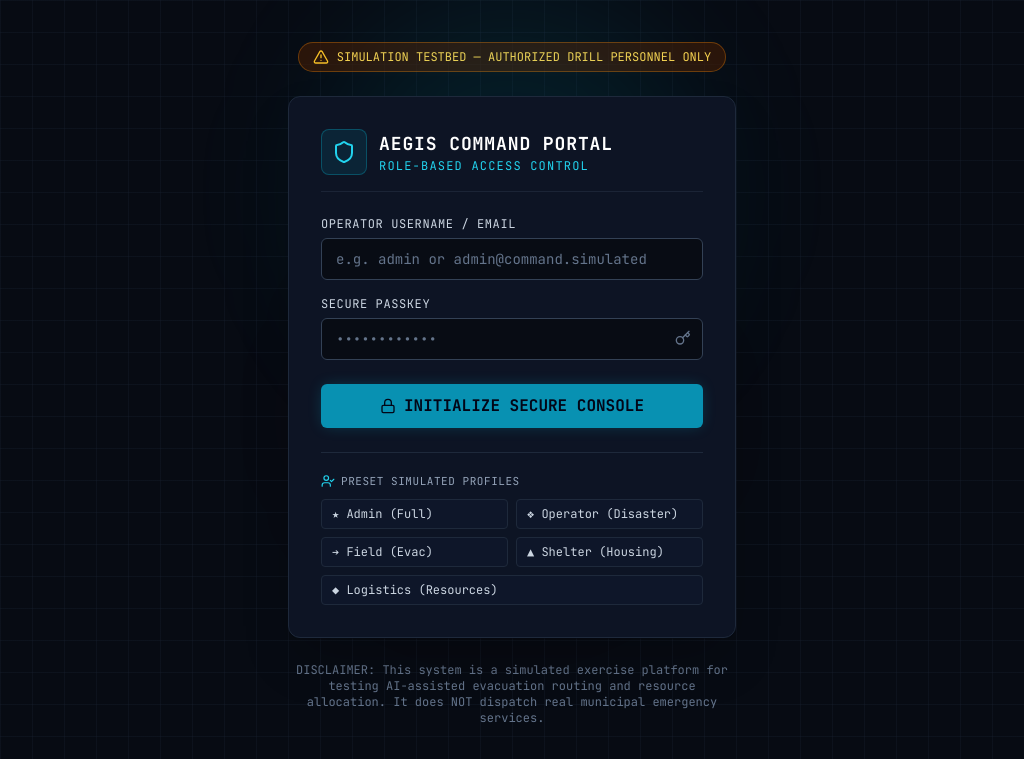
Test: Phase 3 — Authentication & RBAC › Login Page › shows error message on invalid credentials (401)
Type "admin" into the field with id "login-username". click: (512, 259)
box: [321, 238, 703, 280]
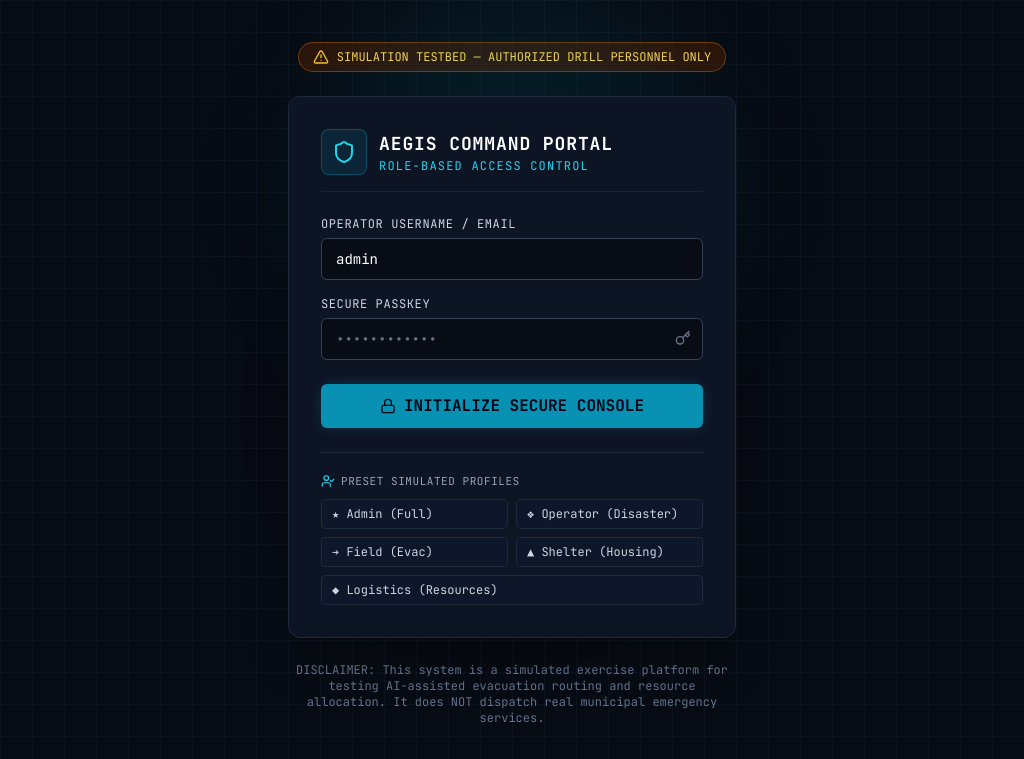
Type "WrongPassword!" into the password field with id "login-password". click: (512, 339)
box: [321, 318, 703, 360]
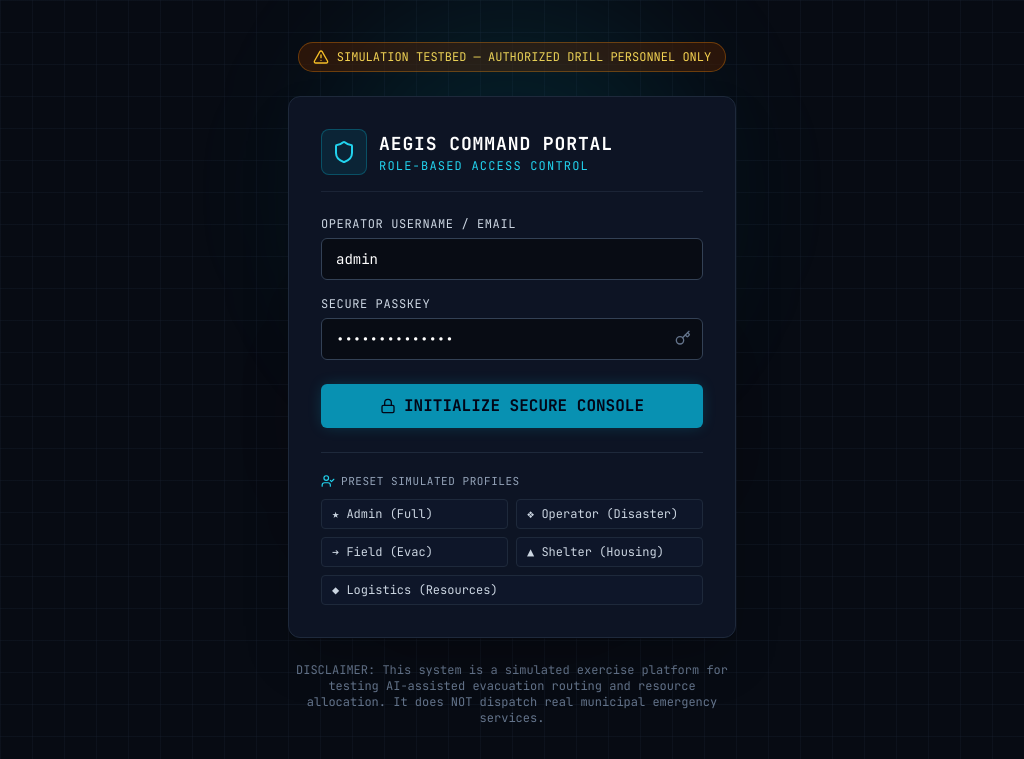
Click the button with id "login-submit-btn". click: (512, 406)
box: [321, 384, 703, 428]
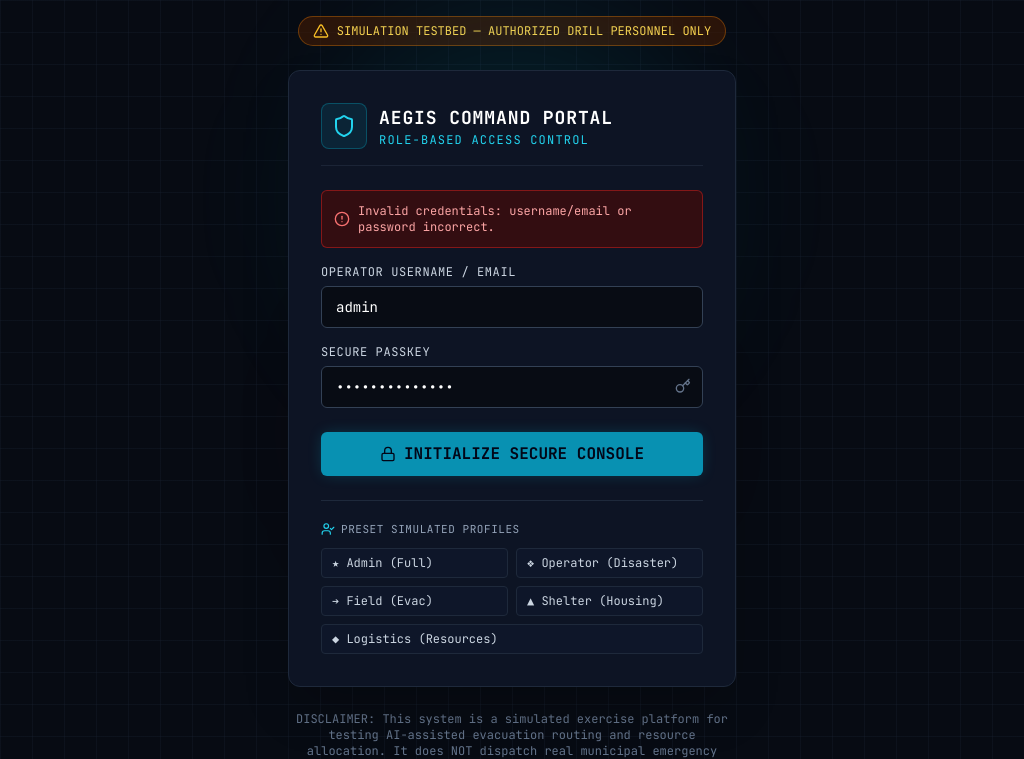
Result: the text "Invalid credentials: username/email or password incorrect." is shown at [358, 203, 632, 235]
